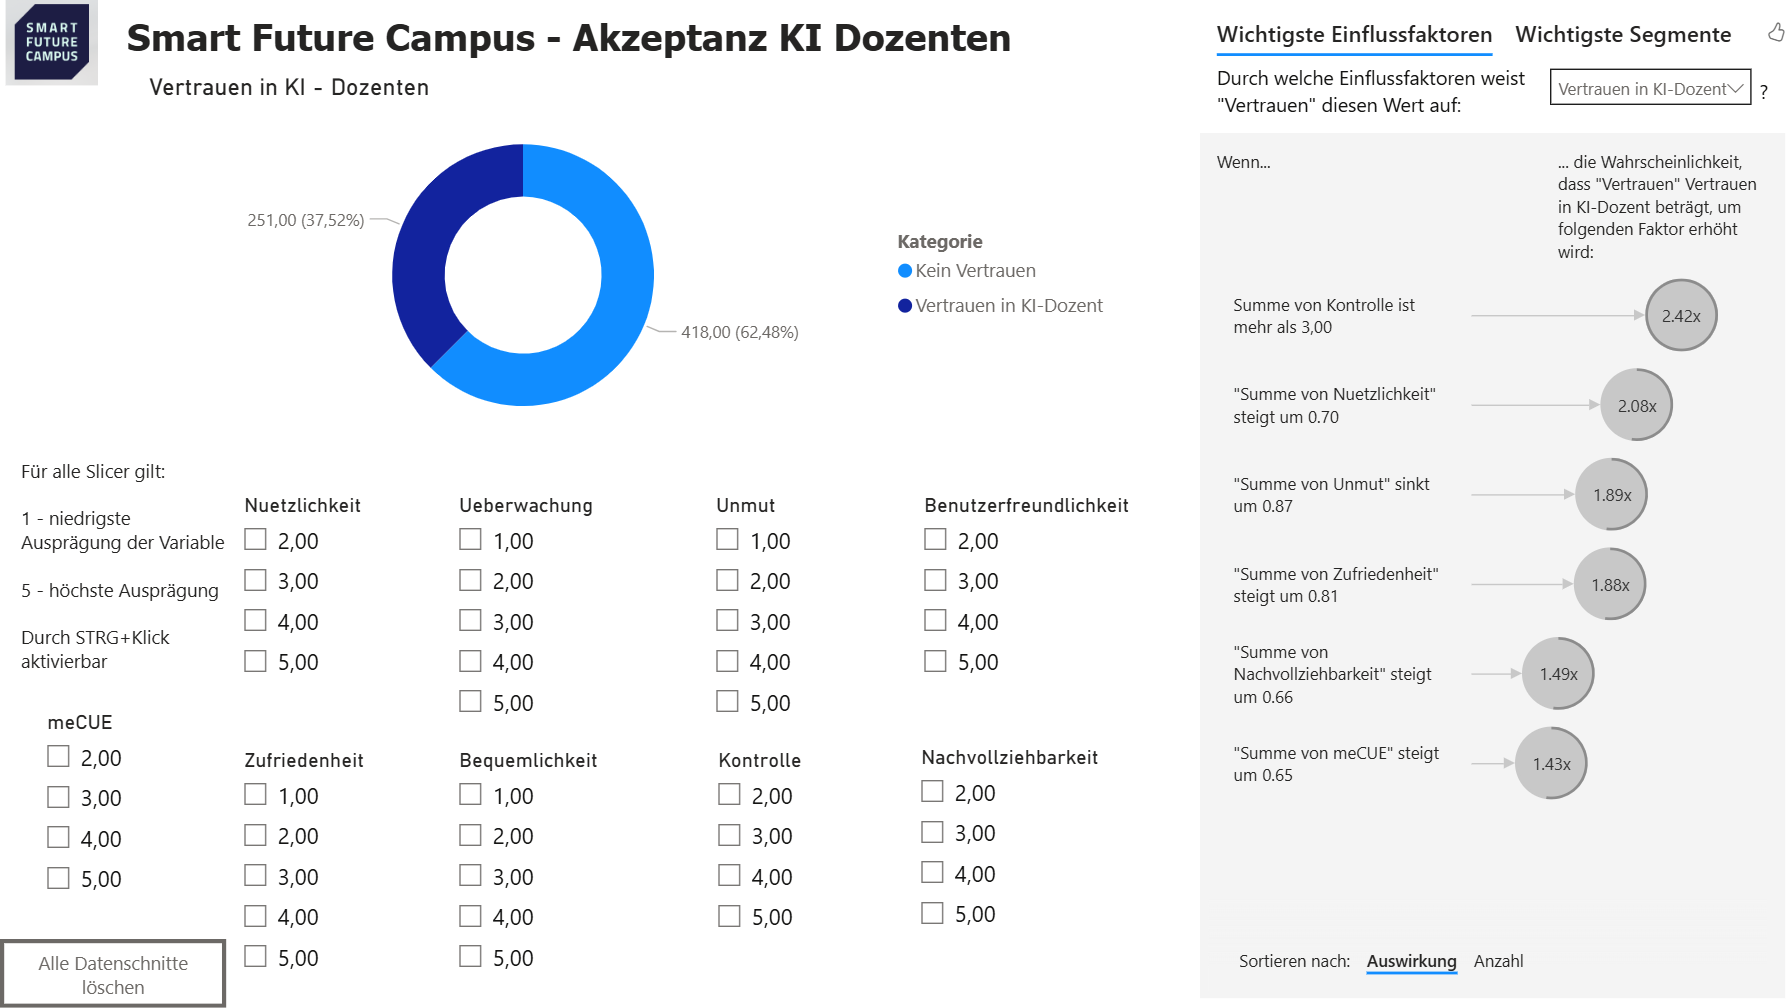

The page's visual inventory and layout, read from the dashboard file:
{"tool":"powerbi","page":{"name":"KI_Dozent_Dashboard / Vertrauen","canvas":[1280,720],"ordinal":0},"visuals":[{"type":"donutChart","title":"Vertrauen in KI - Dozenten","fields":{"Category":["Prepared_SmartCampus.Vertrauen"],"Y":["Sum(Prepared_SmartCampus.Zufriedenheit)"]},"box":[101.4,52.1,701.4,270],"z":0,"group":"g1"},{"type":"keyDriversVisual","fields":{"Target":["Prepared_SmartCampus.Vertrauen"],"ExplainBy":["Sum(Prepared_SmartCampus.Zufriedenheit)","Sum(Prepared_SmartCampus.Wahrgenommene_Nuetzlichkeit)","Sum(Prepared_SmartCampus.Wahrgenommene_Kontrolle)","Sum(Prepared_SmartCampus.Wahrgenommene_Benutzerfreundlichkeit)","Sum(Prepared_SmartCampus.Unmut)","Sum(Prepared_SmartCampus.Ueberwachung)","Sum(Prepared_SmartCampus.Nachvollziehbarkeit)","Sum(Prepared_SmartCampus.meCUE)","Sum(Prepared_SmartCampus.Bequemlichkeit)"]},"box":[852.3,0,427.7,718.5],"z":2000,"group":"g1"},{"type":"slicer","fields":{"Values":["Prepared_SmartCampus.Wahrgenommene_Kontrolle"]},"box":[500,530,161.2,151.2],"z":3000,"group":"g1"},{"type":"slicer","fields":{"Values":["Prepared_SmartCampus.Wahrgenommene_Nuetzlichkeit"]},"box":[161.4,347.9,153.6,162.9],"z":4000,"group":"g1"},{"type":"slicer","fields":{"Values":["Prepared_SmartCampus.Zufriedenheit"]},"box":[161.4,530,150,177.1],"z":5000,"group":"g1"},{"type":"slicer","fields":{"Values":["Prepared_SmartCampus.meCUE"]},"box":[20.7,502.9,119.3,155.7],"z":6000,"group":"g1"},{"type":"slicer","fields":{"Values":["Prepared_SmartCampus.Bequemlichkeit"]},"box":[315,530,185,177.5],"z":7000,"group":"g1"},{"type":"slicer","fields":{"Values":["Prepared_SmartCampus.Nachvollziehbarkeit"]},"box":[645,527.9,198.6,155.7],"z":8000,"group":"g1"},{"type":"slicer","fields":{"Values":["Prepared_SmartCampus.Ueberwachung"]},"box":[315,347.9,185,182.1],"z":9000,"group":"g1"},{"type":"slicer","fields":{"Values":["Prepared_SmartCampus.Unmut"]},"box":[498.6,347.9,114.3,182.1],"z":10000,"group":"g1"},{"type":"slicer","fields":{"Values":["Prepared_SmartCampus.Benutzerfreundlichkeit"]},"box":[647.1,347.9,205,162.9],"z":11000,"group":"g1"},{"type":"textbox","box":[85.7,4.3,750.7,47.9],"z":12000,"group":"g1"},{"type":"actionButton","box":[0,670.8,161.6,49.2],"z":13000,"group":"g1"},{"type":"image","box":[0,0,74.3,60.7],"z":14000,"group":"g1"},{"type":"textbox","box":[10,322.1,158.6,170.7],"z":15000,"group":"g1"},{"type":"group","id":"g1","title":"Gruppe 1","box":[0,0,1280,720],"z":15001}]}

Visuals, with their boxes in screenshot pixels (x1, y1, x2, y2), scaled from the page's 1280x720 canvas onto the 1790x1008 screenshot:
"Vertrauen in KI - Dozenten" donutChart: x1=142, y1=73, x2=1123, y2=451
keyDriversVisual - Prepared_SmartCampus.Vertrauen x Sum(Prepared_SmartCampus.Zufriedenheit): x1=1192, y1=0, x2=1789, y2=1006
slicer - Prepared_SmartCampus.Wahrgenommene_Kontrolle: x1=699, y1=742, x2=925, y2=954
slicer - Prepared_SmartCampus.Wahrgenommene_Nuetzlichkeit: x1=226, y1=487, x2=441, y2=715
slicer - Prepared_SmartCampus.Zufriedenheit: x1=226, y1=742, x2=435, y2=990
slicer - Prepared_SmartCampus.meCUE: x1=29, y1=704, x2=196, y2=922
slicer - Prepared_SmartCampus.Bequemlichkeit: x1=441, y1=742, x2=699, y2=990
slicer - Prepared_SmartCampus.Nachvollziehbarkeit: x1=902, y1=739, x2=1180, y2=957
slicer - Prepared_SmartCampus.Ueberwachung: x1=441, y1=487, x2=699, y2=742
slicer - Prepared_SmartCampus.Unmut: x1=697, y1=487, x2=857, y2=742
slicer - Prepared_SmartCampus.Benutzerfreundlichkeit: x1=905, y1=487, x2=1192, y2=715
textbox: x1=120, y1=6, x2=1170, y2=73
actionButton: x1=0, y1=939, x2=226, y2=1007
image: x1=0, y1=0, x2=104, y2=85
textbox: x1=14, y1=451, x2=236, y2=690
"Gruppe 1" group: x1=0, y1=0, x2=1789, y2=1007
